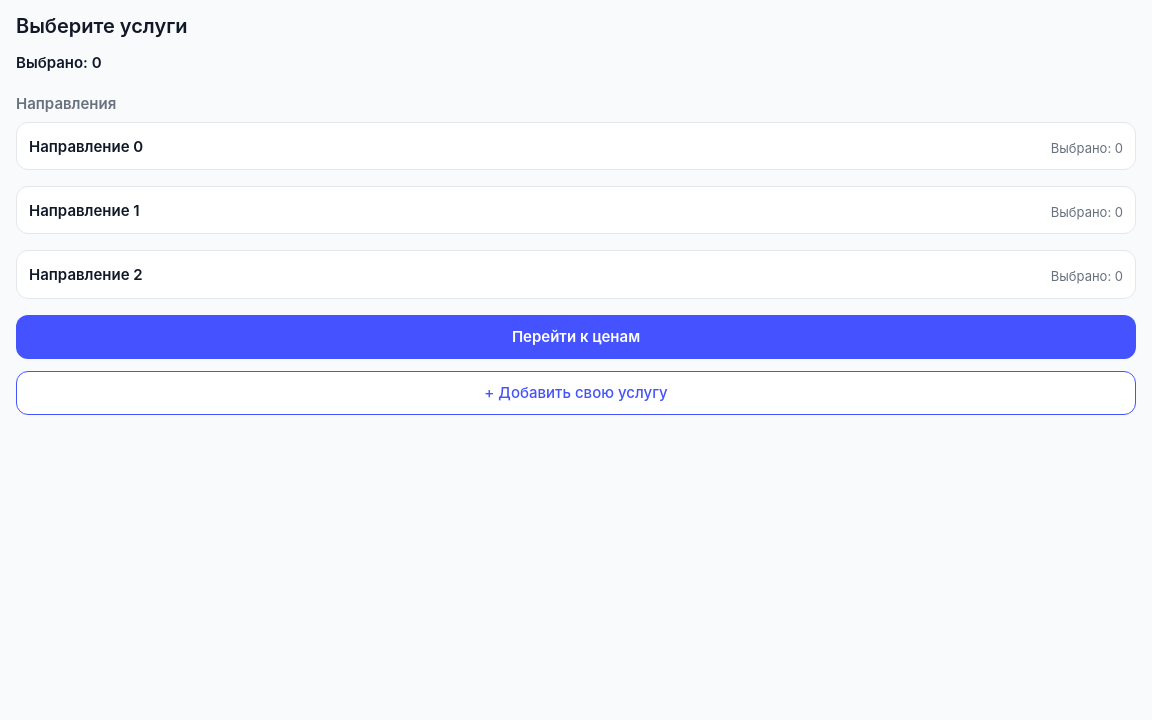
Test: MasterServiceSelectScreen — шаблоны направления › T1: grouped by subcategory, no prices or minutes on the screen
Step 1. Click the button "Направление 0 Выбрано: 0" → (86, 146), box [16,122,1136,170]
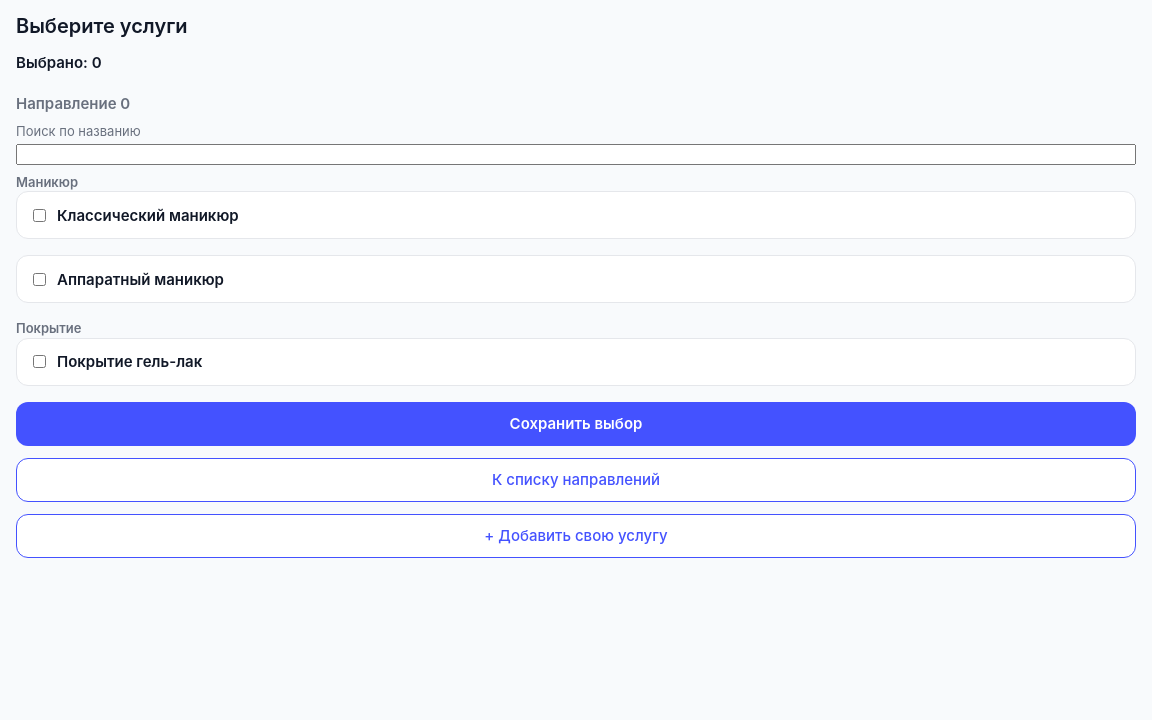
Expected: the text "Маникюр" is shown, [16,173,78,191]
Expected: the text "Покрытие" is shown, [16,319,82,338]
Expected: the checkbox labelled "Аппаратный маникюр" is shown, [33,273,46,286]
